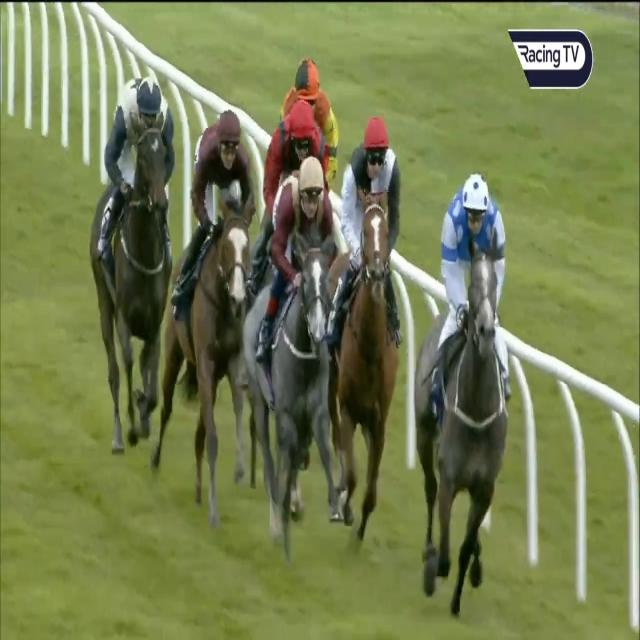horses-racing: (412, 155, 522, 602), (247, 152, 346, 556), (325, 99, 404, 551), (89, 63, 174, 449), (177, 101, 248, 533), (276, 38, 362, 192), (250, 96, 343, 191)
